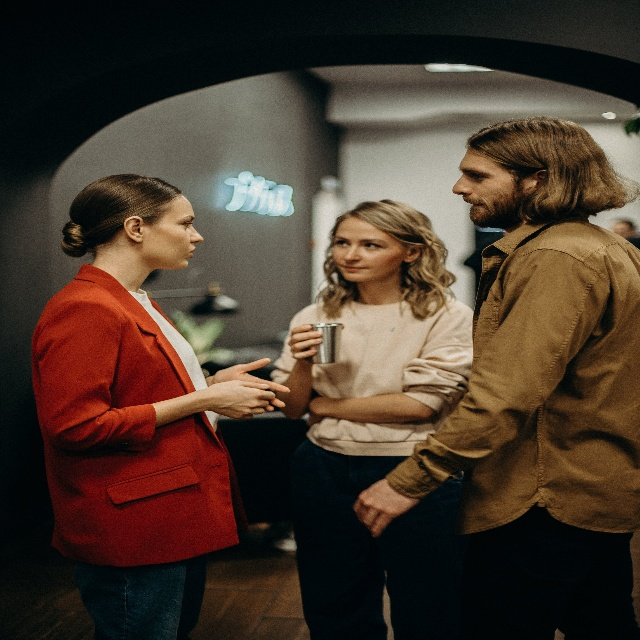Sin_guantes: (213, 356, 291, 413), (352, 479, 421, 538), (209, 380, 276, 420), (287, 323, 323, 365)
